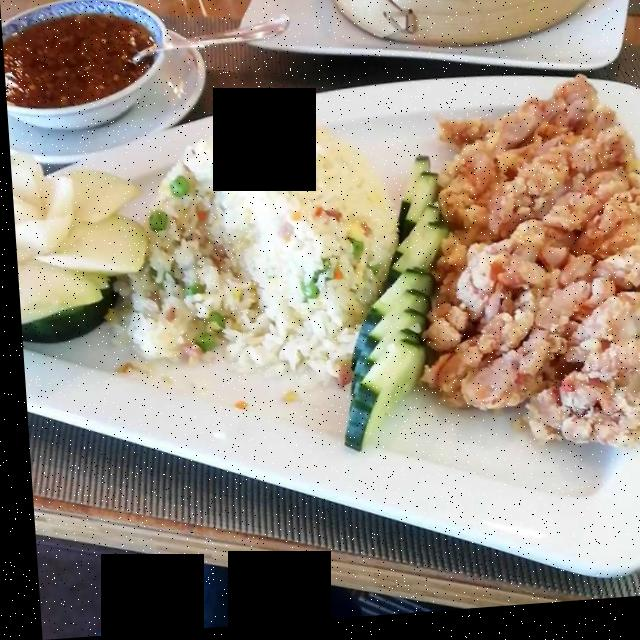breadcrumbs-unspiced: (456, 126, 640, 475)
cantonese-fried-rice: (118, 131, 375, 400)
chicken-cut-into-stripes-only-meat: (419, 82, 640, 468)
cucumber: (346, 172, 442, 453)
mixed-vegetables: (16, 161, 153, 344)
sauce-sweet-salted-asian: (7, 14, 149, 111)
